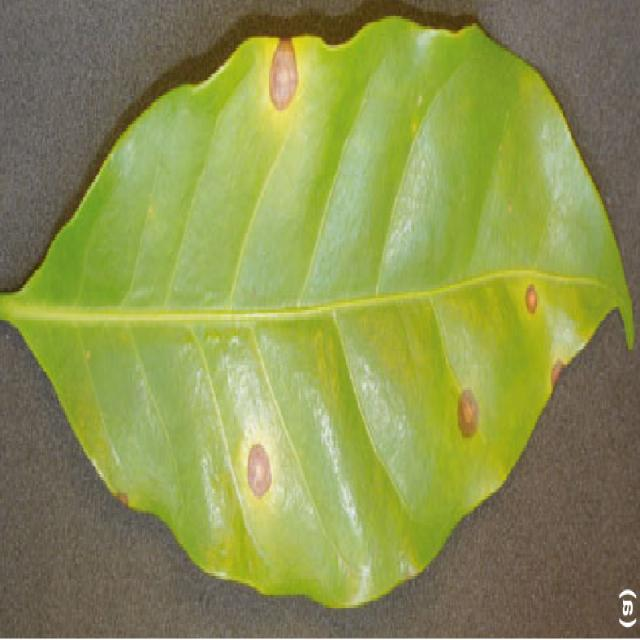Enfermedad-Mancha-de-hierro: (12, 17, 634, 612)
